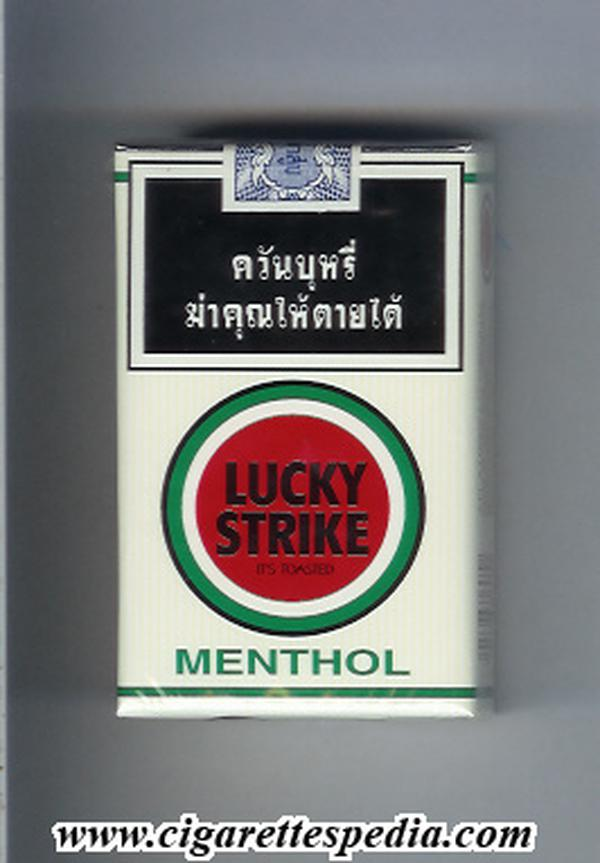lucky_strike_red: (120, 150, 479, 721)
